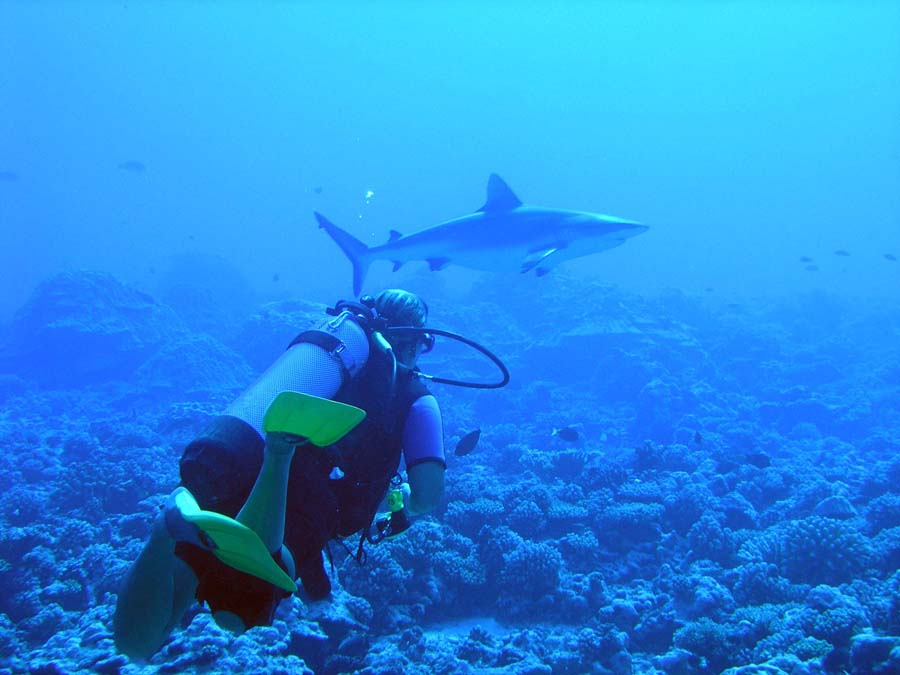Carcharhinus_amblyrhynchos: (303, 168, 659, 290)
